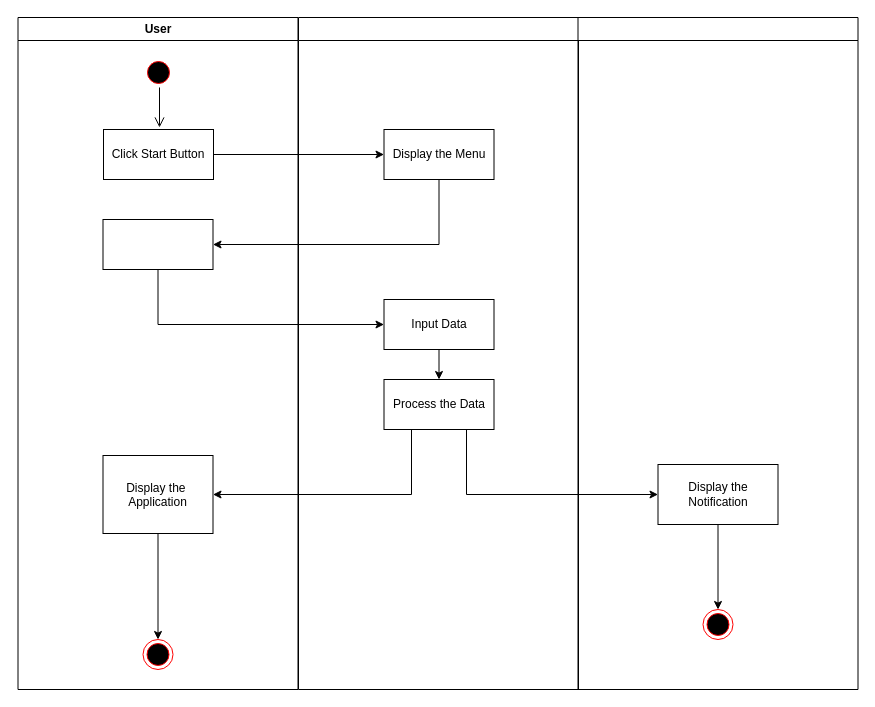
The diagram is 875 pixels wide and 707 high, and some of its shapes have lost their labels. The shapes that lost their labels are listed below. From the top down, each one's box as (x1, y1, x2, y2) in pixels, then its label:
(102, 218, 213, 270): Choose the Menu
(298, 16, 578, 690): System
(577, 16, 858, 690): Desktop
